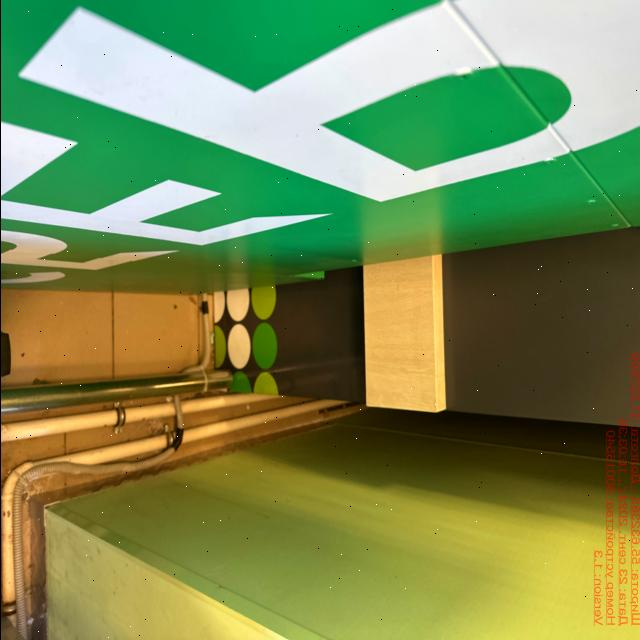bank: (0, 0, 640, 299)
